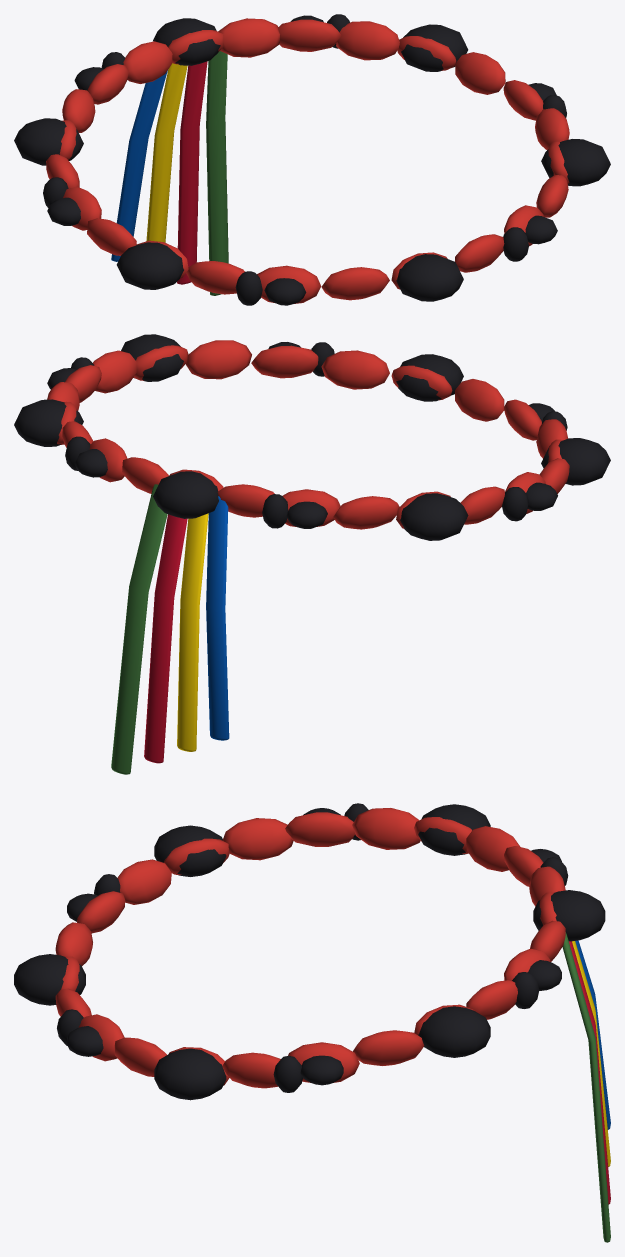
Rendered from hw_wreath.glb.
3 views of the same model, one above another, from view 1: azimuth 30°, elevation 25°; view 2: azimuth 150°, elevation 25°; view 3: azimuth 270°, elevation 25° (orthographic). The views are drawn at different scales.
Parts seen in each view (by area): view 1: hw_wreath, hw_wreath@hibiscus_f, hw_wreath@flowers_r3, hw_wreath@flowers_r2, hw_wreath@flowers_r1, hw_wreath@flowers_f, hw_wreath@flowers_r0, hw_wreath@oak_a; view 2: hw_wreath, hw_wreath@hibiscus_f, hw_wreath@flowers_r3, hw_wreath@flowers_r2, hw_wreath@flowers_r1, hw_wreath@flowers_r0, hw_wreath@flowers_f, hw_wreath@oak_a; view 3: hw_wreath, hw_wreath@hibiscus_f, hw_wreath@flowers_f, hw_wreath@oak_a, hw_wreath@flowers_r3, hw_wreath@flowers_r2, hw_wreath@flowers_r1, hw_wreath@flowers_r0.
Boxes of the visible parts, <box> form: hw_wreath: <box>46,18,569,303</box>; hw_wreath@hibiscus_f: <box>14,18,610,301</box>; hw_wreath@flowers_r3: <box>206,51,228,295</box>; hw_wreath@flowers_r2: <box>177,61,207,284</box>; hw_wreath@flowers_r1: <box>146,63,187,242</box>; hw_wreath@flowers_f: <box>47,15,557,305</box>; hw_wreath@flowers_r0: <box>111,70,167,261</box>; hw_wreath@oak_a: <box>43,14,566,305</box>; hw_wreath: <box>47,340,569,529</box>; hw_wreath@hibiscus_f: <box>14,334,610,540</box>; hw_wreath@flowers_r3: <box>111,484,167,774</box>; hw_wreath@flowers_r2: <box>144,514,187,763</box>; hw_wreath@flowers_r1: <box>177,513,208,751</box>; hw_wreath@flowers_r0: <box>206,496,229,740</box>; hw_wreath@flowers_f: <box>47,342,557,528</box>; hw_wreath@oak_a: <box>65,342,567,528</box>; hw_wreath: <box>55,808,565,1088</box>; hw_wreath@hibiscus_f: <box>14,804,605,1100</box>; hw_wreath@flowers_f: <box>67,808,561,1085</box>; hw_wreath@oak_a: <box>57,803,568,1092</box>; hw_wreath@flowers_r3: <box>562,932,610,1242</box>; hw_wreath@flowers_r2: <box>569,941,610,1204</box>; hw_wreath@flowers_r1: <box>572,941,610,1166</box>; hw_wreath@flowers_r0: <box>575,940,610,1129</box>.
Bounding box in the file's own units: 0.8298 × 0.465 × 0.7879.
